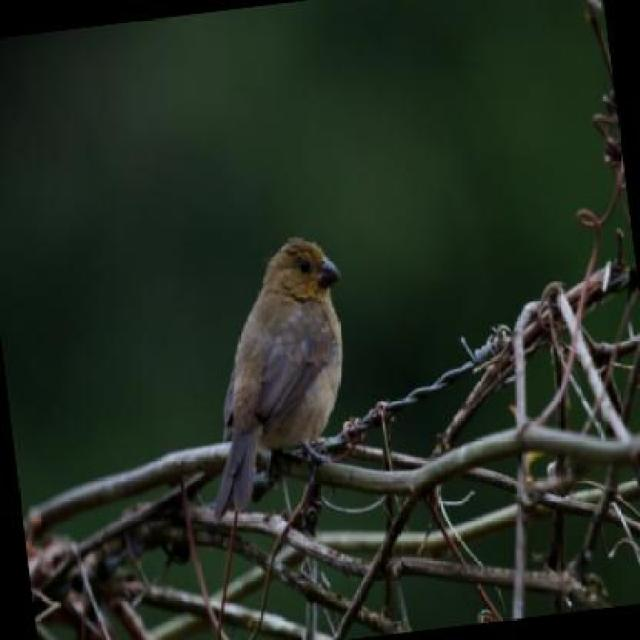sparrow: (185, 233, 360, 462)
